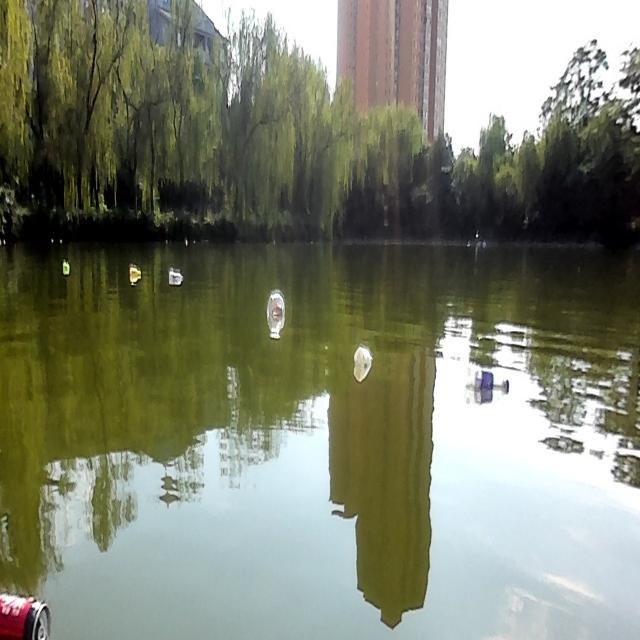bottle: (462, 365, 508, 398), (268, 292, 284, 326), (352, 345, 372, 367), (167, 268, 183, 281), (128, 264, 140, 276), (62, 261, 68, 273)
